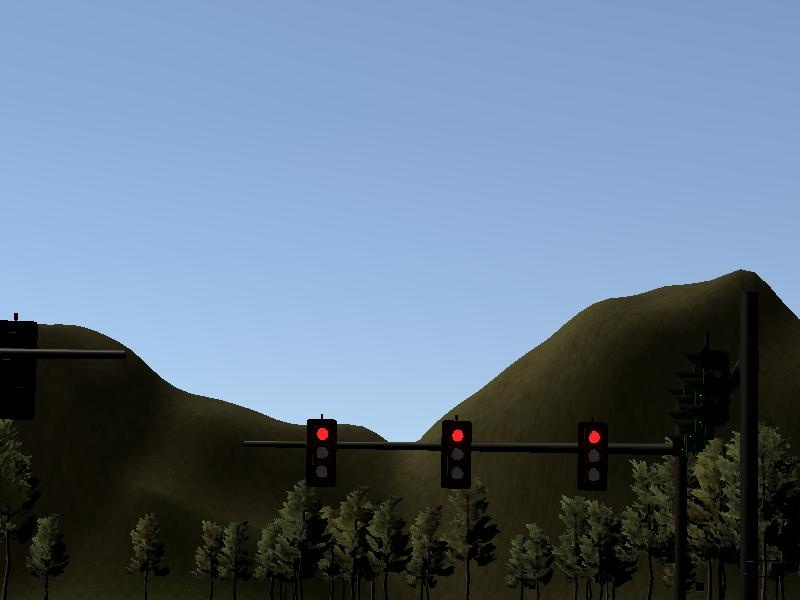red: (577, 422, 610, 493), (441, 422, 472, 490), (305, 420, 336, 486)
